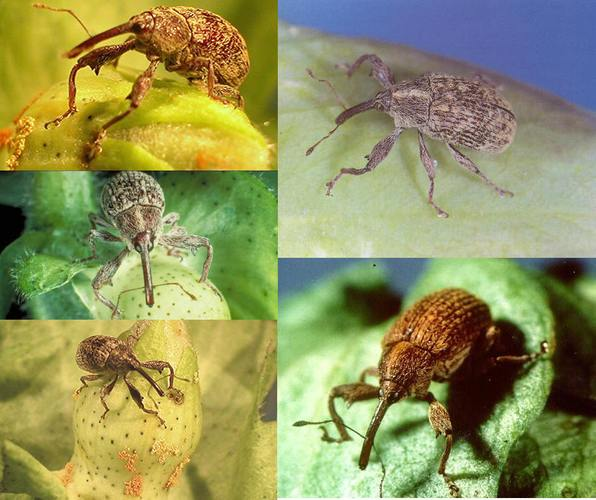Curculionidae: (292, 287, 547, 500), (31, 2, 250, 165), (304, 53, 518, 219), (70, 171, 213, 318), (74, 320, 191, 428)
